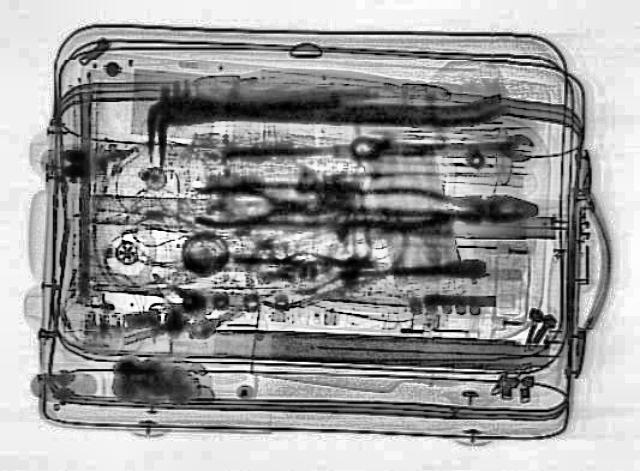Pliers: (348, 181, 538, 227), (192, 181, 344, 233)
Wrench: (351, 132, 533, 160)
